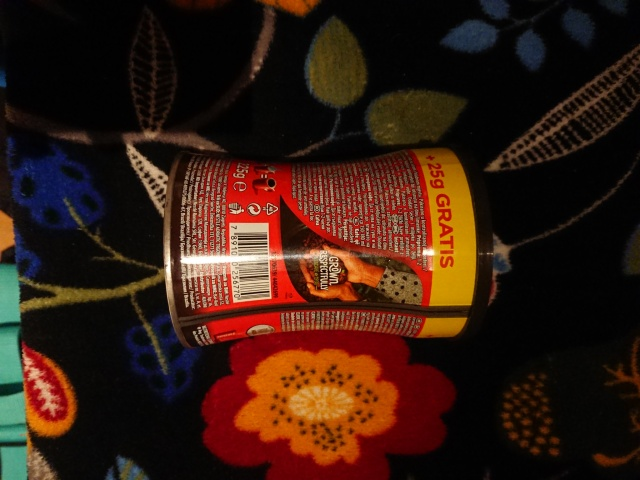Nescafe Classic 225g: (158, 139, 499, 352)
